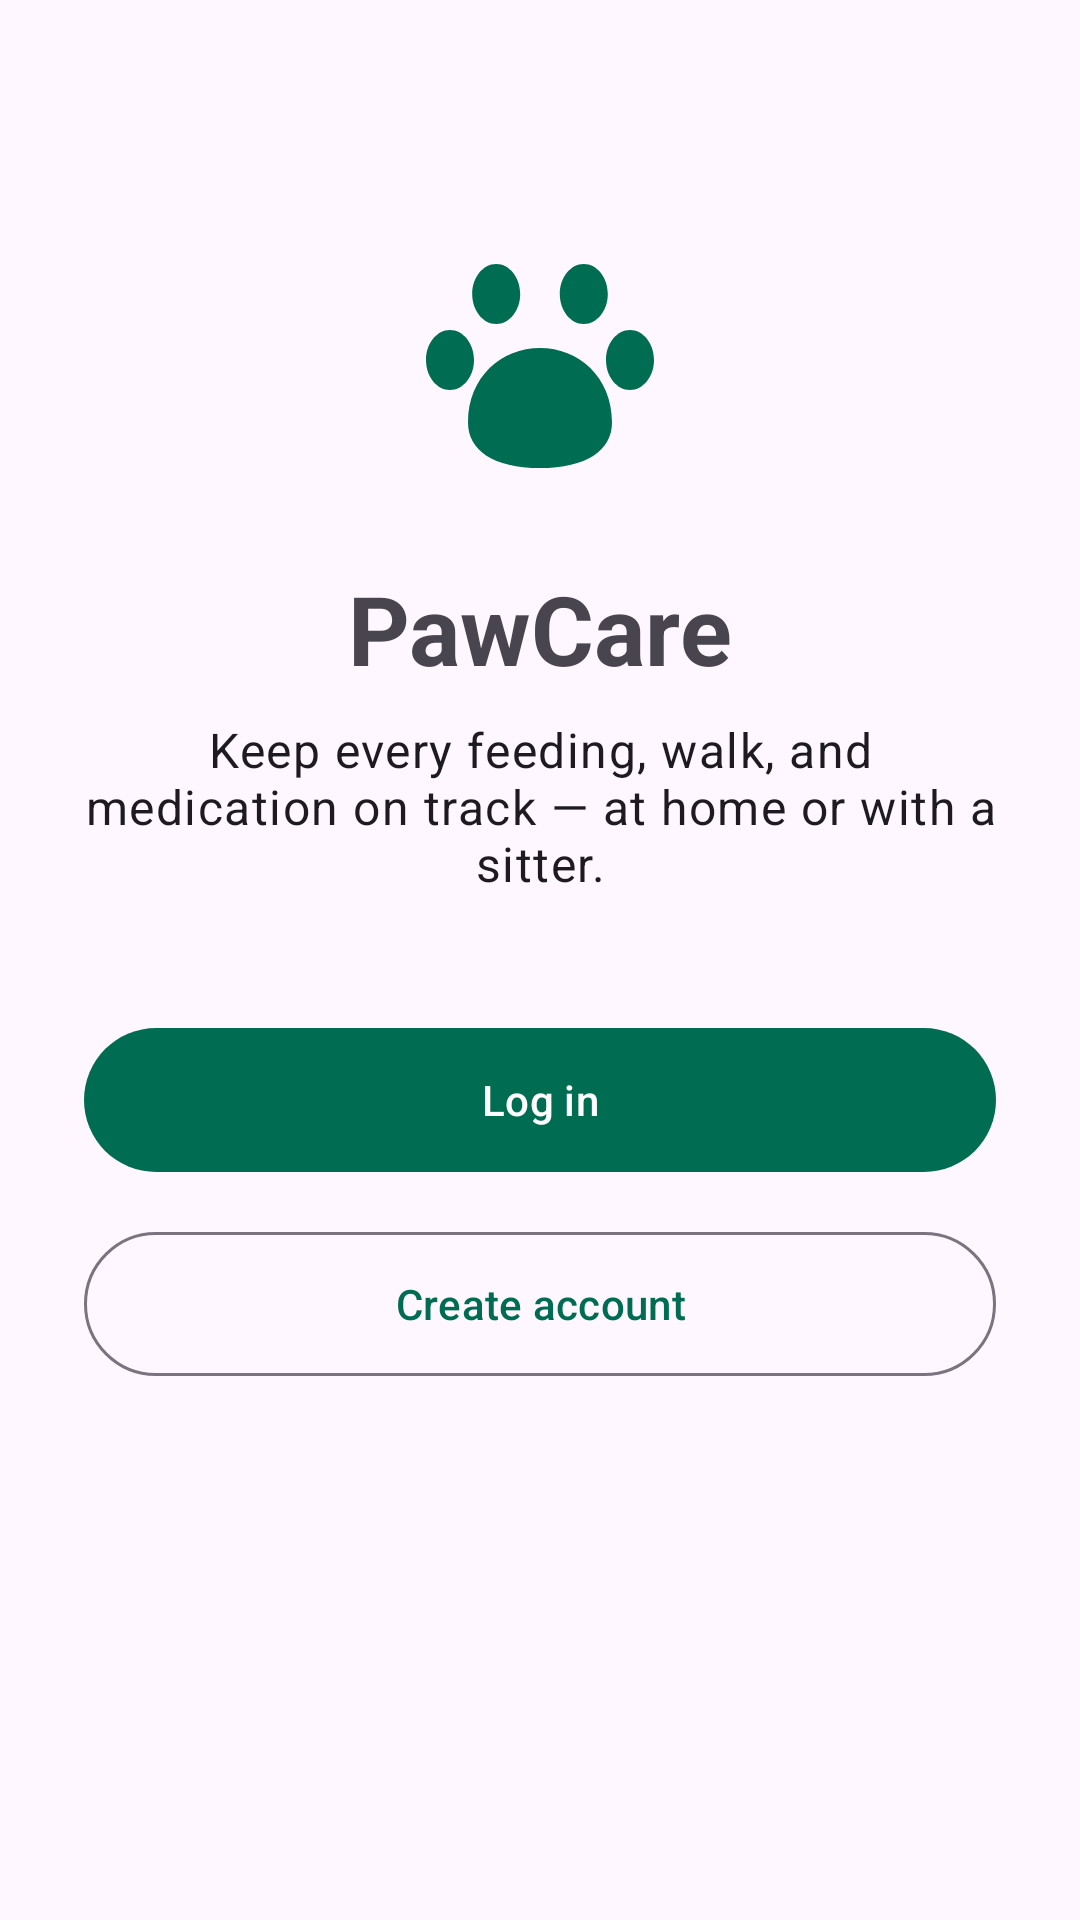

Where to tap for icons on this 1080×1920 app screen, as [x,y]:
paw: [540,366]
